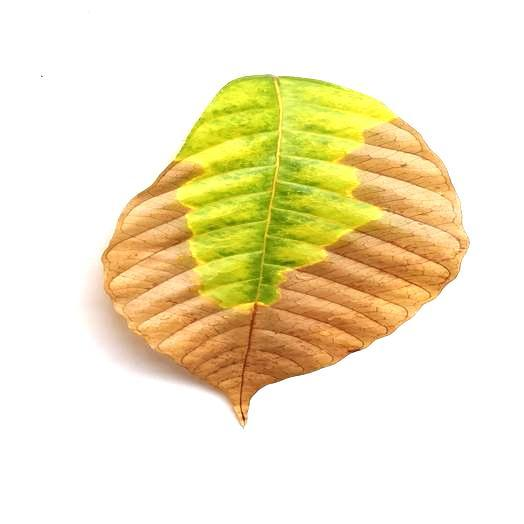Potassium: (104, 75, 467, 424)
